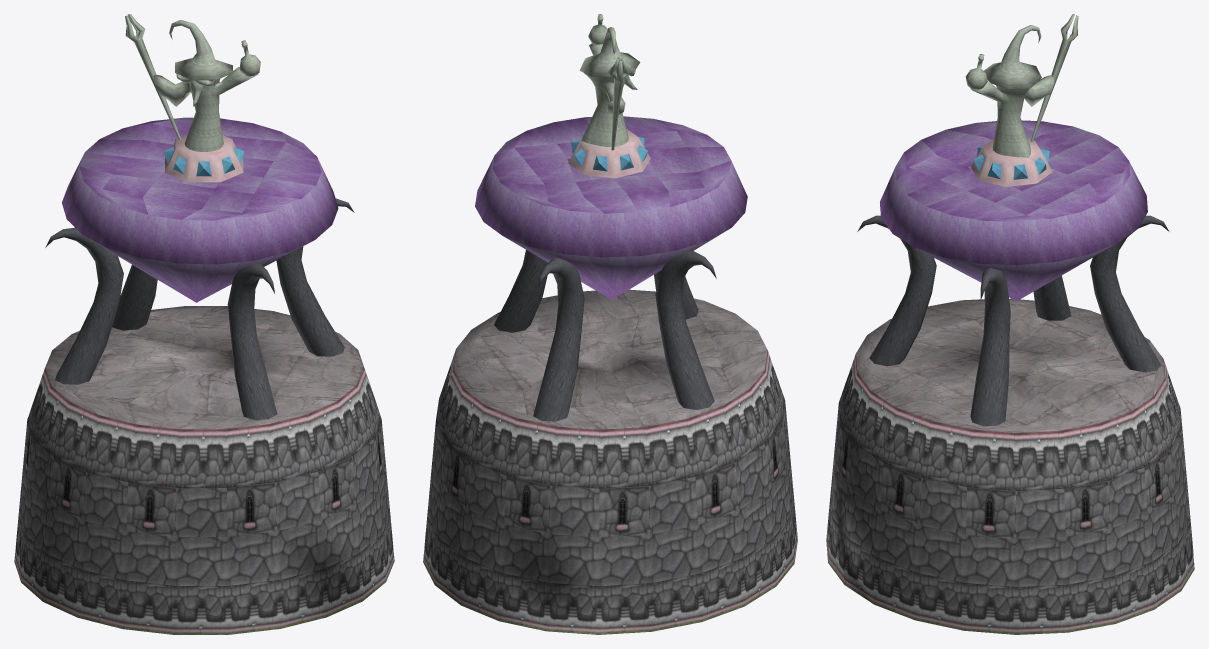
File: Statue_Tower.glb
3 renders of one model, left to right at view 1: azimuth 30°, elevation 25°; view 2: azimuth 150°, elevation 25°; view 3: azimuth 270°, elevation 25°, orthographic. The views are drawn at different scales.
Visible parts, largest first — view 1: Torre2; view 2: Torre2; view 3: Torre2.
Boxes of the visible parts, box(x1,y1,x2,y2) form: Torre2: box(14, 14, 394, 634); Torre2: box(423, 14, 797, 634); Torre2: box(826, 14, 1194, 634).
Bounding box in the file's own units: 27.59 × 43.5 × 27.42.
Materials: 2 (2 with a texture image).
